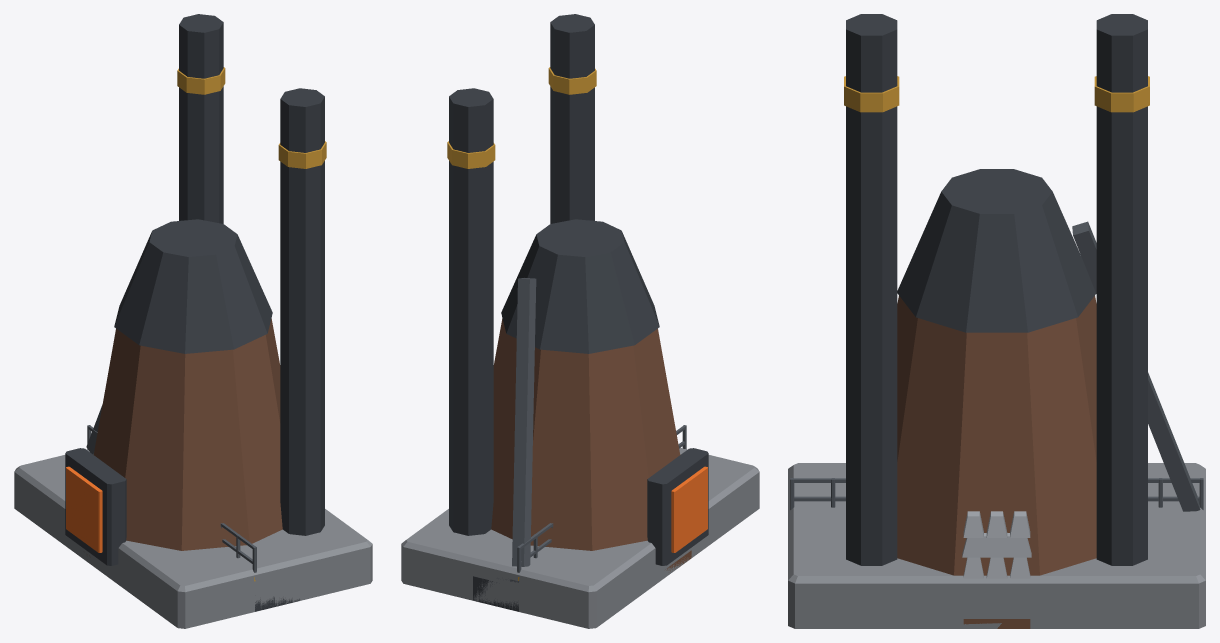
The model's file is Kit.fbx.
The picture shows the model from 3 angles, left to right: view 1: azimuth 30°, elevation 25°; view 2: azimuth 150°, elevation 25°; view 3: azimuth 270°, elevation 25°; orthographic projection. The views are drawn at different scales.
Parts seen in each view (by area): view 1: Furnace_FD_SteelDark, Furnace_FD_Rust, Furnace_FD_Concrete, Furnace_FD_MoltenGlow, Furnace_FD_Hazard, Catwalk30_FD_Steel; view 2: Furnace_FD_SteelDark, Furnace_FD_Rust, Furnace_FD_Concrete, Furnace_FD_Steel, Furnace_FD_MoltenGlow, Furnace_FD_Hazard, Catwalk30_FD_Steel, Catwalk30_FD_SteelDark; view 3: Furnace_FD_SteelDark, Furnace_FD_Rust, Furnace_FD_Concrete, IngotStack20x5_FD_Ingot, Furnace_FD_Steel, Furnace_FD_Hazard, Catwalk30_FD_Steel.
Boxes of the visible parts, left/top/right/bottom form: Furnace_FD_SteelDark: left=65, top=14, right=324, bottom=565; Furnace_FD_Rust: left=93, top=318, right=282, bottom=550; Furnace_FD_Concrete: left=14, top=449, right=372, bottom=628; Furnace_FD_MoltenGlow: left=66, top=466, right=102, bottom=552; Furnace_FD_Hazard: left=177, top=67, right=326, bottom=168; Catwalk30_FD_Steel: left=87, top=425, right=256, bottom=572; Furnace_FD_SteelDark: left=449, top=14, right=708, bottom=565; Furnace_FD_Rust: left=491, top=318, right=680, bottom=550; Furnace_FD_Concrete: left=401, top=448, right=759, bottom=628; Furnace_FD_Steel: left=512, top=278, right=536, bottom=566; Furnace_FD_MoltenGlow: left=671, top=466, right=707, bottom=552; Furnace_FD_Hazard: left=447, top=67, right=596, bottom=168; Catwalk30_FD_Steel: left=497, top=425, right=686, bottom=582; Catwalk30_FD_SteelDark: left=473, top=576, right=518, bottom=611; Furnace_FD_SteelDark: left=846, top=14, right=1147, bottom=565; Furnace_FD_Rust: left=897, top=296, right=1096, bottom=575; Furnace_FD_Concrete: left=788, top=463, right=1205, bottom=628; IngotStack20x5_FD_Ingot: left=962, top=511, right=1031, bottom=578; Furnace_FD_Steel: left=1072, top=221, right=1200, bottom=511; Furnace_FD_Hazard: left=844, top=76, right=1149, bottom=112; Catwalk30_FD_Steel: left=790, top=478, right=1203, bottom=509.
Size of the model in its own units: 21.4 by 46 by 30.
